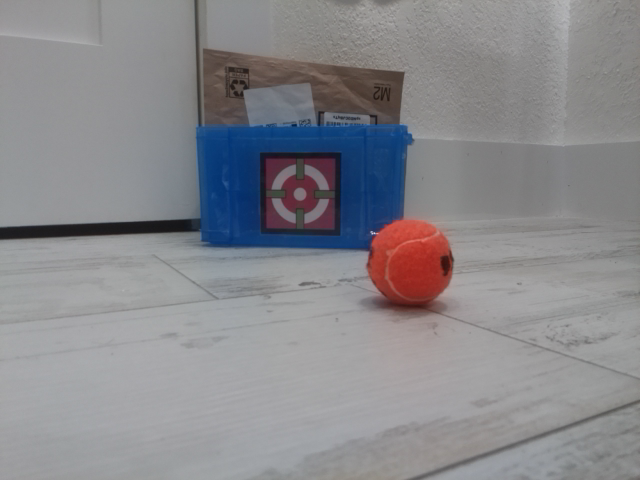drop-bin: (259, 150, 342, 236)
orange-ball: (366, 218, 455, 309)
